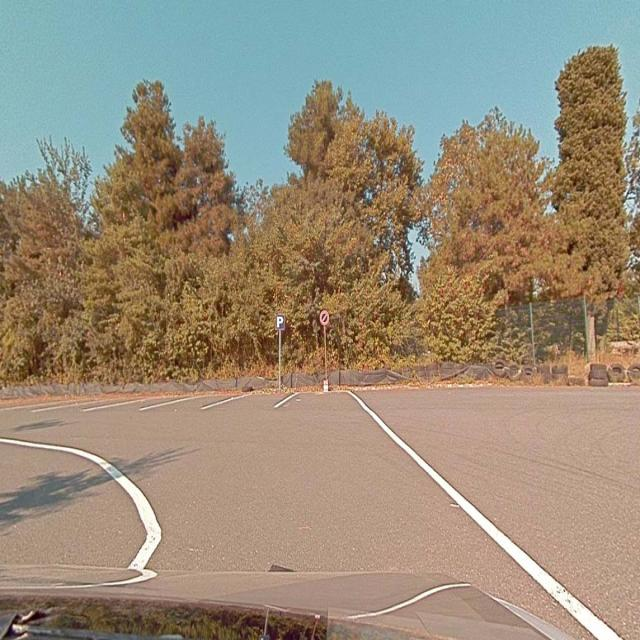park: (276, 314, 285, 330)
parkyasak: (320, 310, 329, 326)
